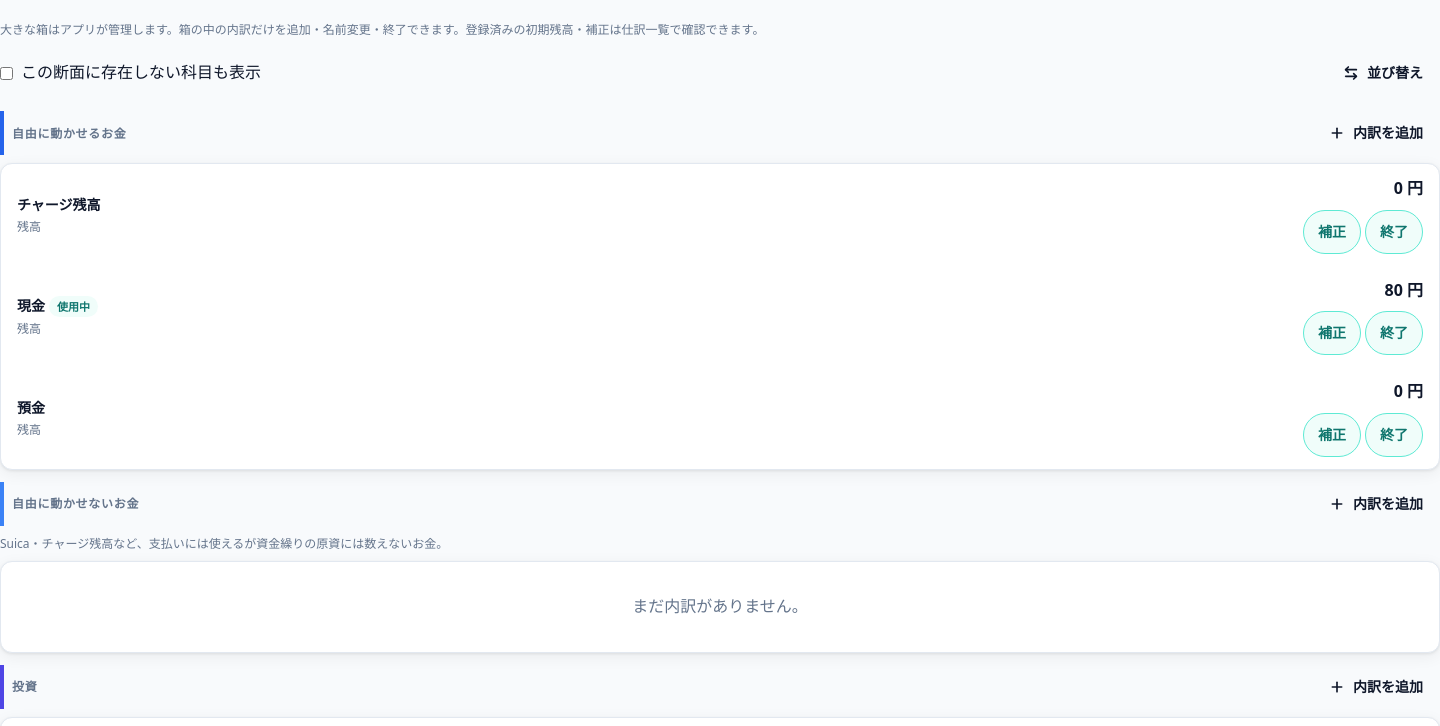
Test: 残高調整科目の一覧表示（C-7・表示だけ普通に） › 並び替えモードでも残高調整科目は対象外
Step 1. Click the button "並び替え" → (1383, 73), box [1326,51,1439,95]
(page scrolled)
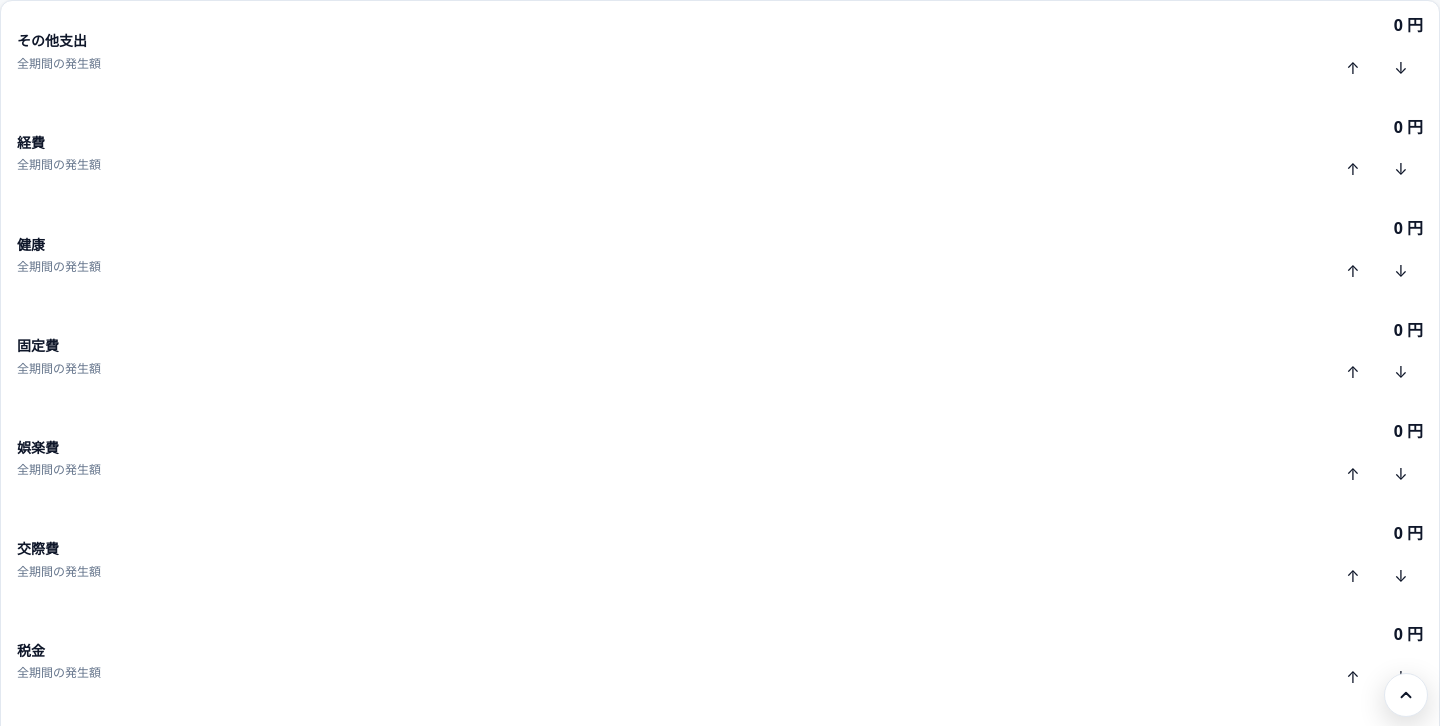
Now the button named "上へ: 固定費" is shown, box [1331,351,1375,395]
